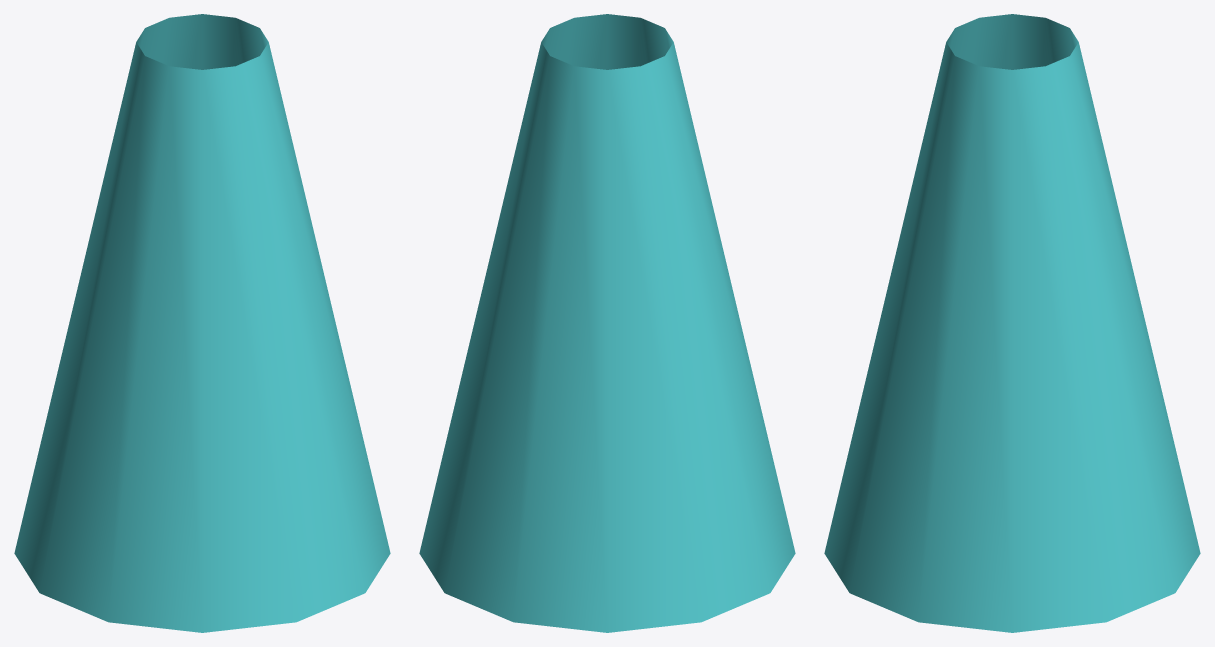
Rendered from UFOLight.fbx.
3 renders of one model, left to right at view 1: azimuth 30°, elevation 25°; view 2: azimuth 150°, elevation 25°; view 3: azimuth 270°, elevation 25°, orthographic.
Parts seen in each view (by area): view 1: Light; view 2: Light; view 3: Light.
Part boxes in pixels (x1,y1,x2,y2): Light: (14, 14, 390, 632); Light: (419, 14, 795, 632); Light: (824, 14, 1200, 632).
Size of the model in its own units: 2 by 3 by 2.
